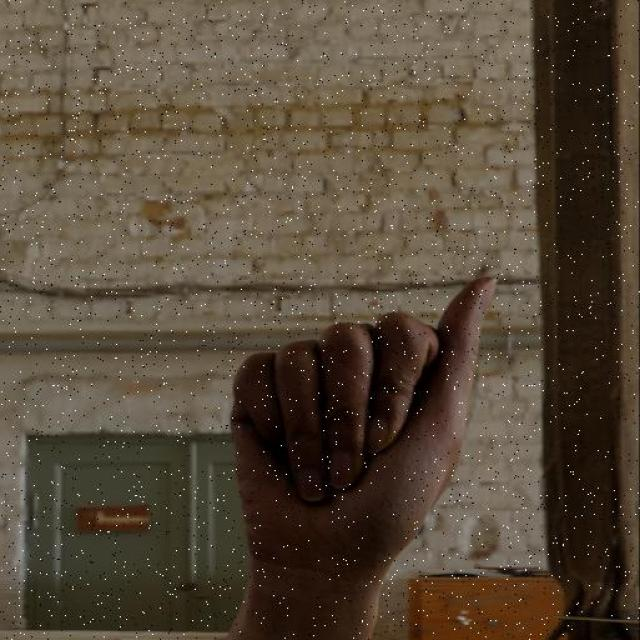A: (224, 270, 507, 581)
